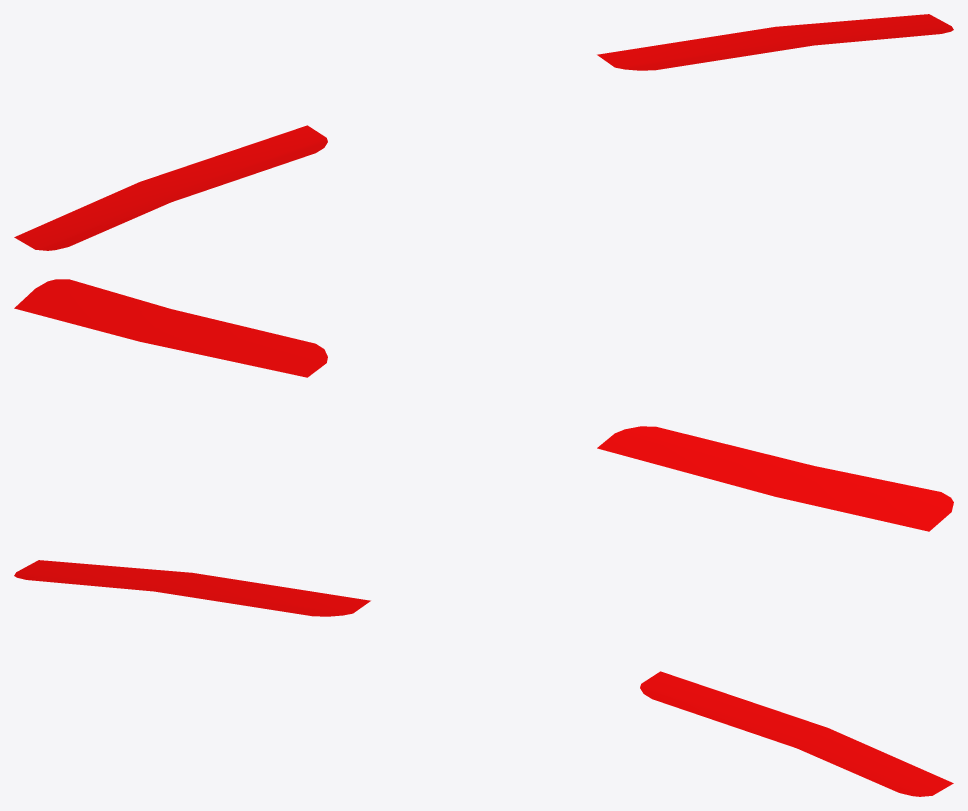
Rendered from Camaro_Chassis_Grill.fbx.
3 views of the same model, one above another, from view 1: azimuth 30°, elevation 25°; view 2: azimuth 150°, elevation 25°; view 3: azimuth 330°, elevation 25° (orthographic).
Parts seen in each view (by area): view 1: Camaro_Chassis_Grill; view 2: Camaro_Chassis_Grill; view 3: Camaro_Chassis_Grill.
Boxes of the visible parts, <box> form: Camaro_Chassis_Grill: <box>14,14,953,250</box>; Camaro_Chassis_Grill: <box>14,279,953,531</box>; Camaro_Chassis_Grill: <box>14,560,953,796</box>.
Bounding box in the file's own units: 0.9837 × 0.0988 × 0.0251.
